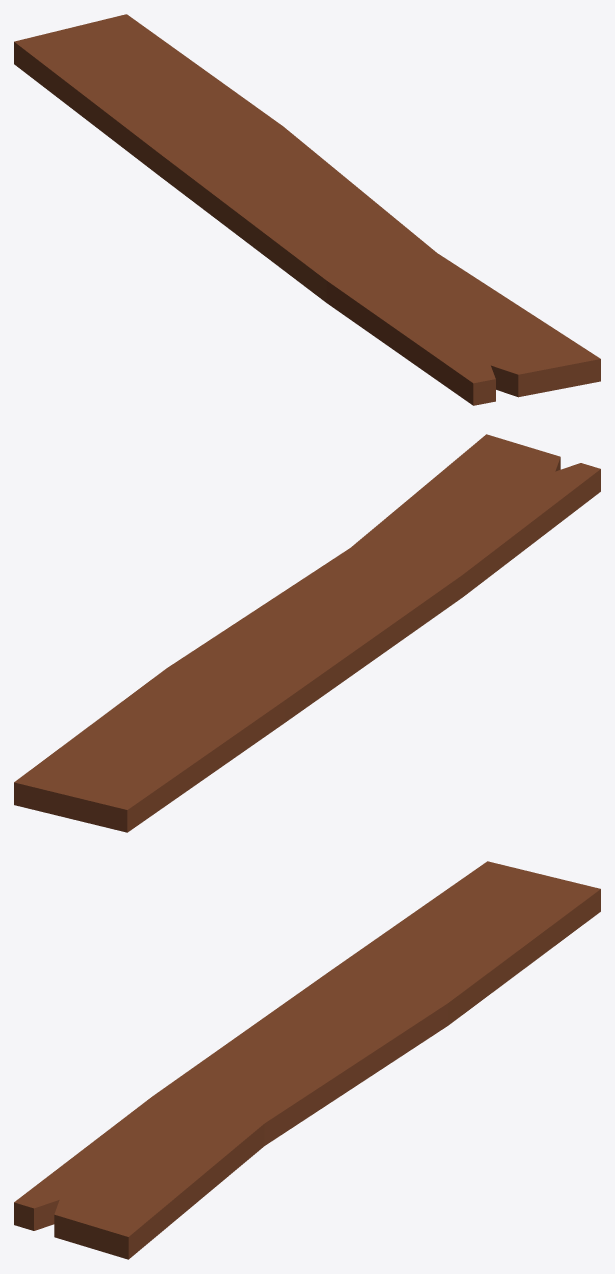
Rendered from LP_PostApoc_Plank1.fbx.
3 views of the same model, one above another, from view 1: azimuth 30°, elevation 25°; view 2: azimuth 150°, elevation 25°; view 3: azimuth 330°, elevation 25° (orthographic).
Visible parts, largest first — view 1: Plank1; view 2: Plank1; view 3: Plank1.
Boxes of the visible parts, left/top/right/bottom form: Plank1: left=14, top=14, right=600, bottom=405; Plank1: left=14, top=434, right=600, bottom=832; Plank1: left=14, top=861, right=600, bottom=1259.
Size of the model in its own units: 30.41 by 5.21 by 198.
